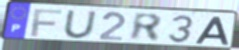2: (98, 11, 128, 42)
3: (165, 15, 196, 45)
A: (194, 16, 231, 46)
F: (30, 8, 64, 38)
R: (129, 12, 164, 43)
U: (62, 9, 98, 40)
